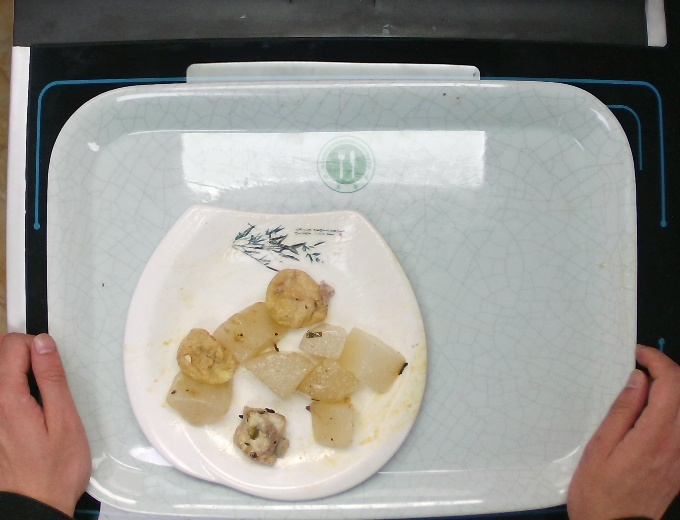JYsf-Mian_Pan: (118, 198, 433, 504)
